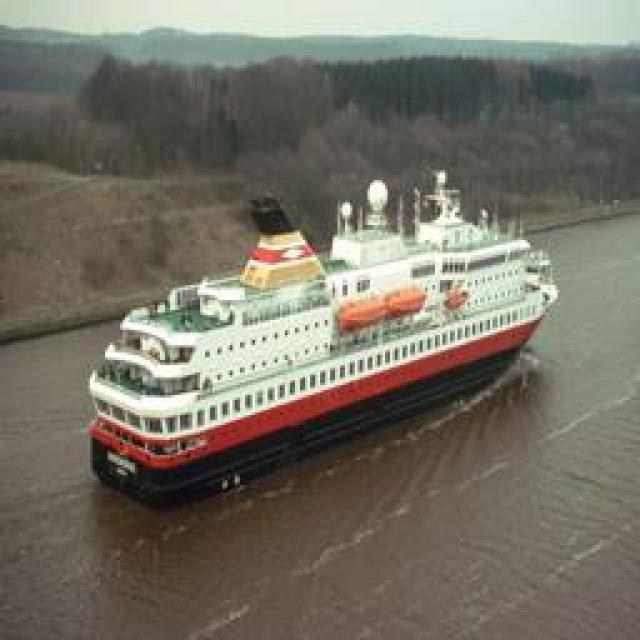ship2: (87, 167, 559, 508)
